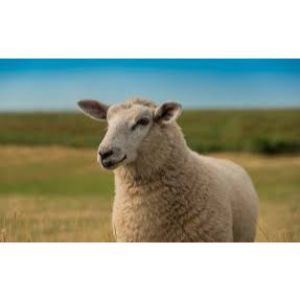sheep: (74, 96, 260, 241)
